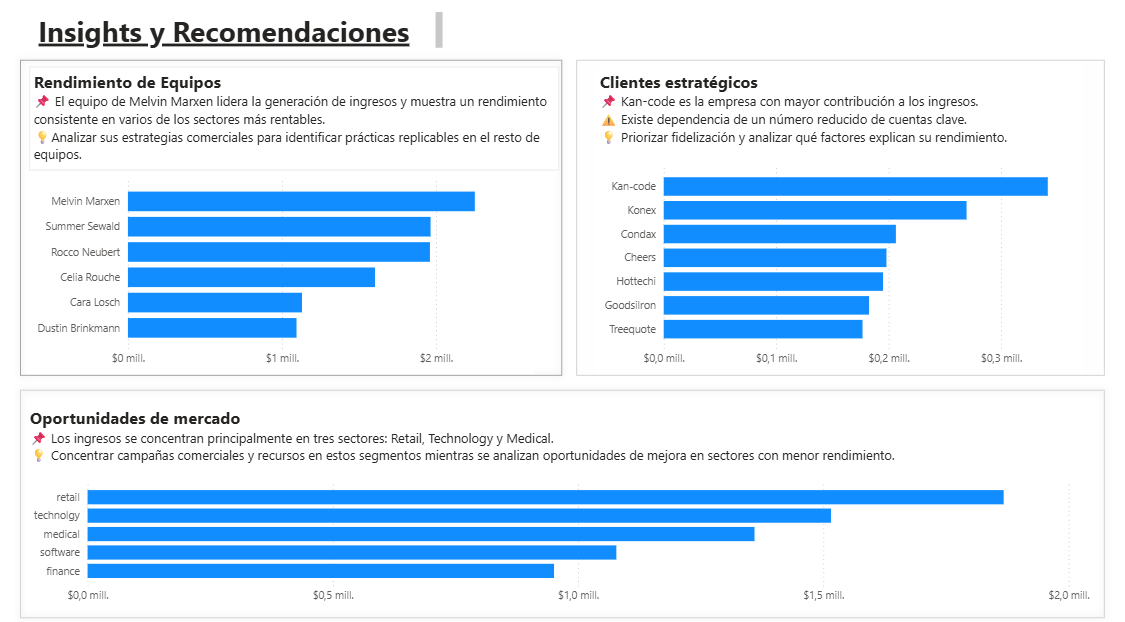

The page's visual inventory and layout, read from the dashboard file:
{"tool":"powerbi","page":{"name":"Página 4","canvas":[1280,720],"ordinal":3},"visuals":[{"type":"shape","box":[651.4,67,618.6,376.3],"z":0},{"type":"shape","box":[17.1,443.3,1252.9,276.5],"z":1000},{"type":"shape","box":[17.1,67,634.3,376.3],"z":2000},{"type":"textbox","box":[41.3,15.7,470.4,51.3],"z":3000},{"type":"barChart","title":"El equipo de Melvin Marxen genera el mayor volumen de ingresos del CRM.","fields":{"Category":["sales_teams.manager"],"Y":["Sum(sales_pipeline.close_value)"]},"box":[31.4,201,580.1,232.3],"z":4000},{"type":"barChart","title":"Clientes Estratégicos por Ingresos","fields":{"Y":["Sum(sales_pipeline.close_value)"],"Category":["accounts.account"]},"box":[681.3,185.3,555.9,248],"z":5000},{"type":"textbox","box":[35.6,82.7,604.4,118.3],"z":6000},{"type":"textbox","box":[681.3,82.7,555.9,102.6],"z":7000},{"type":"barChart","title":"Sectores con Mayor Generación de Ingresos","fields":{"Category":["accounts.sector"],"Y":["accounts.Ingresos_Totales"]},"box":[31.4,544.5,1218.7,159.6],"z":8000},{"type":"textbox","box":[31.4,466.1,1205.9,78.4],"z":9000}]}

Visuals, with their boxes in screenshot pixels (x1, y1, x2, y2), scaled from the page's 1280x720 canvas onto the 1125x622 screenshot:
shape: [x1=573, y1=58, x2=1116, y2=383]
shape: [x1=15, y1=383, x2=1116, y2=621]
shape: [x1=15, y1=58, x2=573, y2=383]
textbox: [x1=36, y1=14, x2=450, y2=58]
"El equipo de Melvin Marxen genera el mayor volumen de ingresos del CRM." barChart: [x1=28, y1=174, x2=537, y2=374]
"Clientes Estratégicos por Ingresos" barChart: [x1=599, y1=160, x2=1087, y2=374]
textbox: [x1=31, y1=71, x2=562, y2=174]
textbox: [x1=599, y1=71, x2=1087, y2=160]
"Sectores con Mayor Generación de Ingresos" barChart: [x1=28, y1=470, x2=1099, y2=608]
textbox: [x1=28, y1=403, x2=1087, y2=470]
